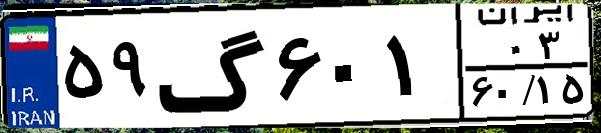0: (330, 28, 385, 110), (508, 27, 537, 80), (495, 70, 520, 125)
1: (385, 28, 445, 110), (535, 70, 560, 125)
3: (537, 27, 568, 80)
5: (57, 26, 110, 100), (560, 70, 590, 125)
6: (270, 28, 330, 110), (470, 70, 495, 125)
9: (110, 28, 156, 98)
گ: (156, 12, 270, 120)
